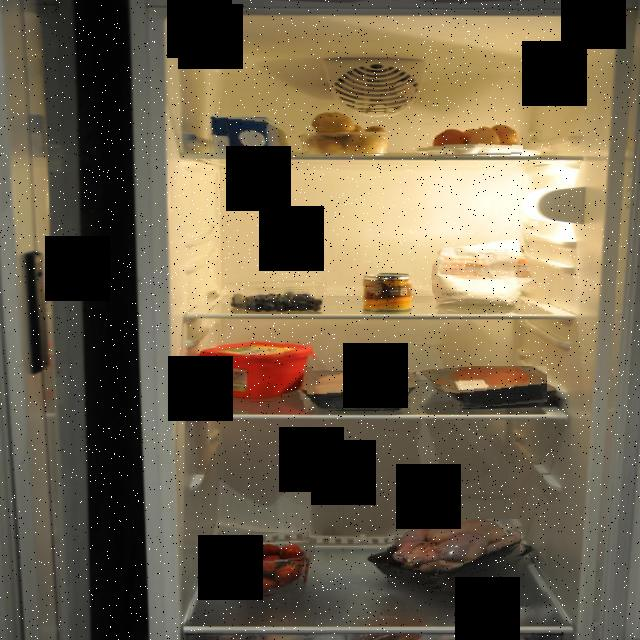beef: (437, 366, 547, 410)
blueberries: (230, 288, 326, 312)
butter: (200, 342, 314, 404)
chicken: (388, 520, 524, 592)
chicken_breast: (306, 372, 416, 412)
corn: (360, 272, 415, 312)
eggs: (428, 126, 524, 158)
flour: (432, 235, 536, 309)
milk: (207, 114, 290, 158)
potato: (300, 111, 388, 156)
strawberries: (230, 532, 310, 598)
